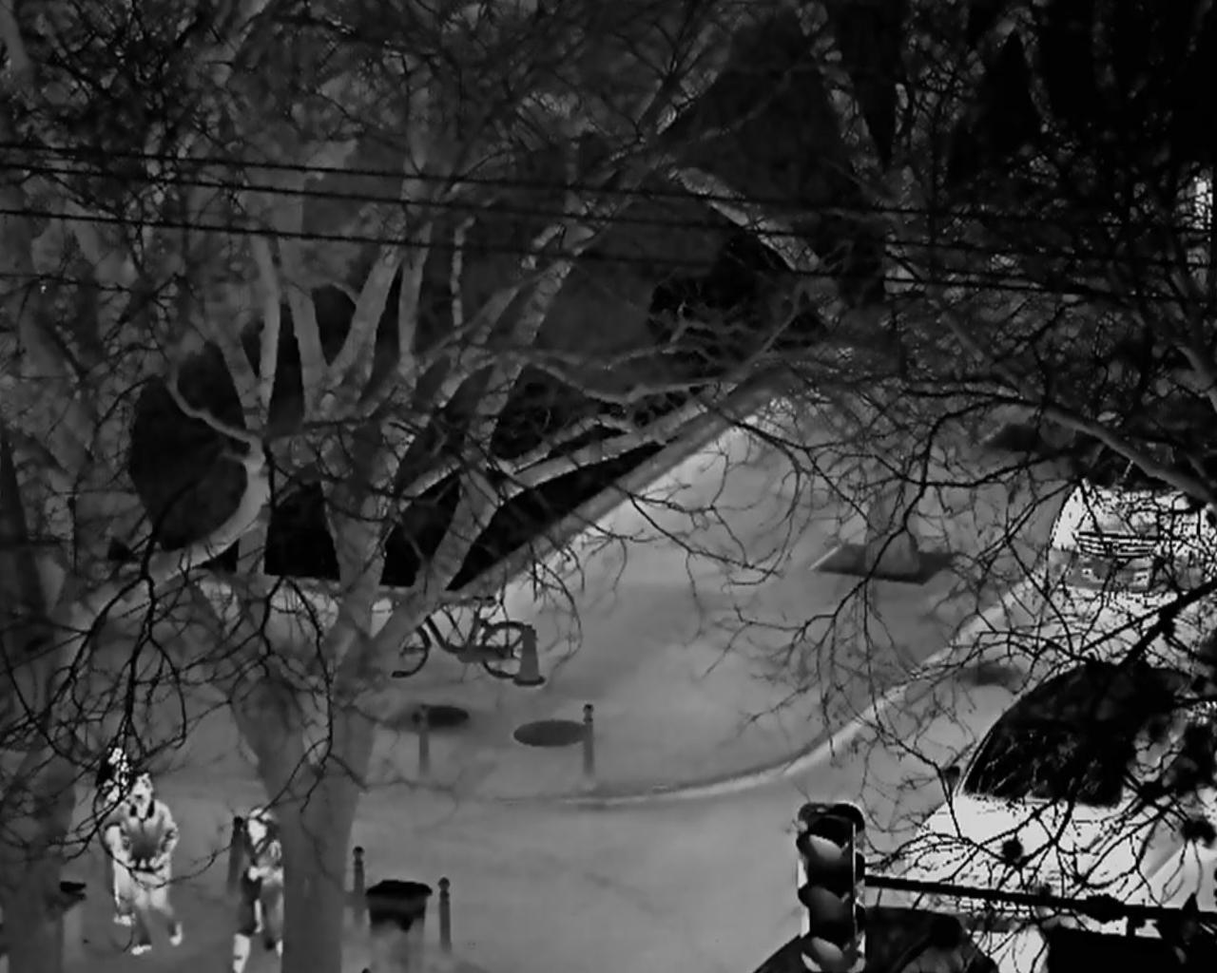person: (121, 776, 185, 956), (233, 805, 284, 973)
